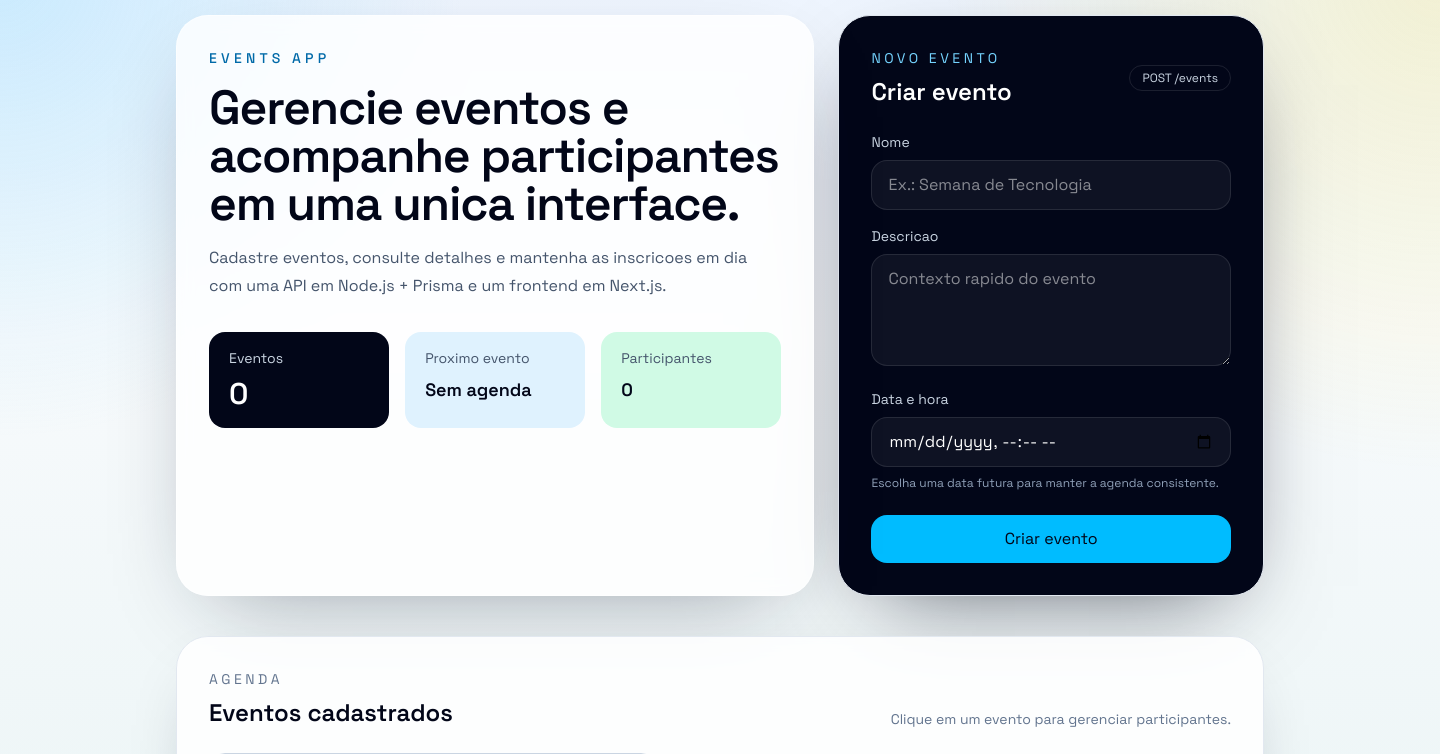
Test: HomePage › creates a new event and refreshes the list
Type "Open Source Day" into the field with placeholder "Ex.: Semana de Tecnologia".
click(1051, 185); type("Open Source Day")  # box top-left (871, 160), bottom-right (1231, 210)
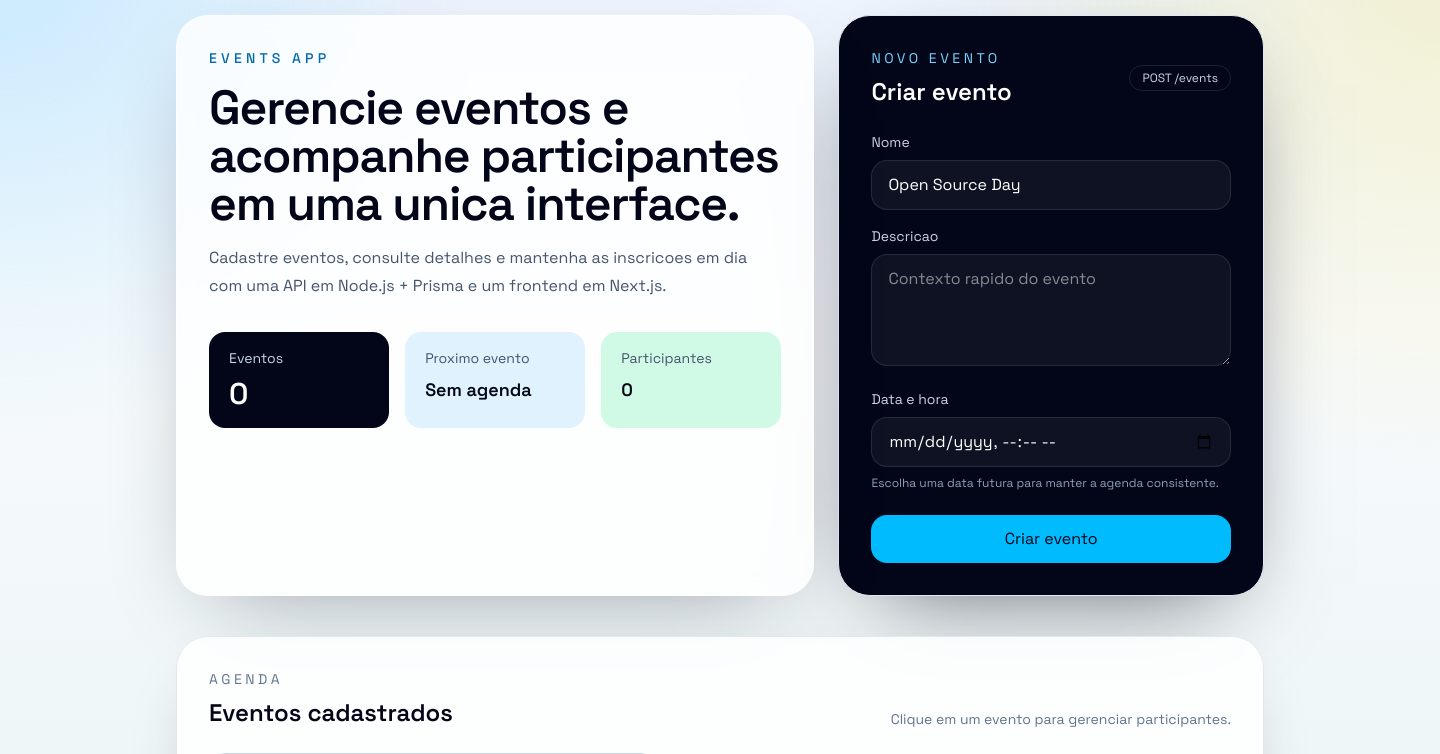
Type "Comunidade e codigo" into the text box with placeholder "Contexto rapido do evento".
click(1051, 310); type("Comunidade e codigo")  # box top-left (871, 254), bottom-right (1231, 366)
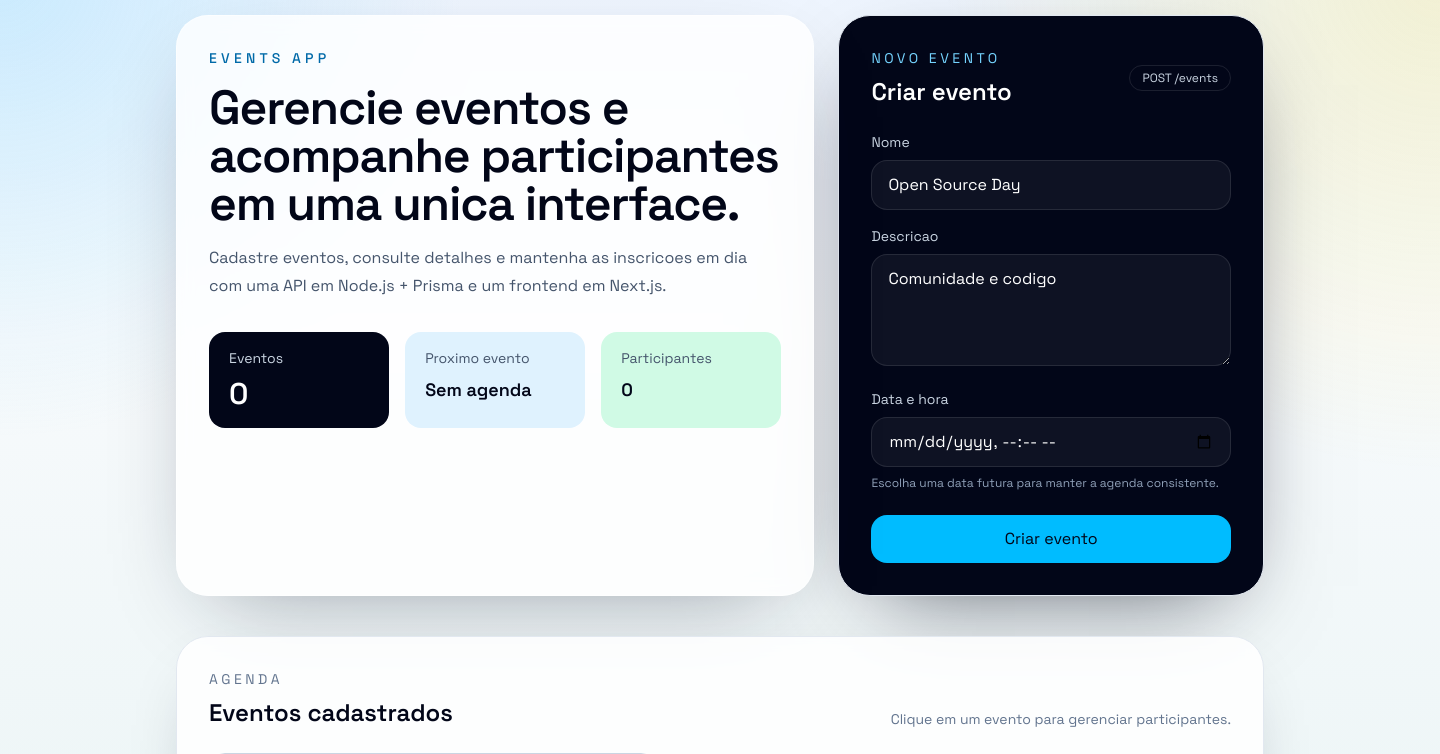
Type "2030-01-15T10:00" into the 2nd field.
click(1051, 442); type("2030-01-15T10:00")  # box top-left (871, 417), bottom-right (1231, 467)
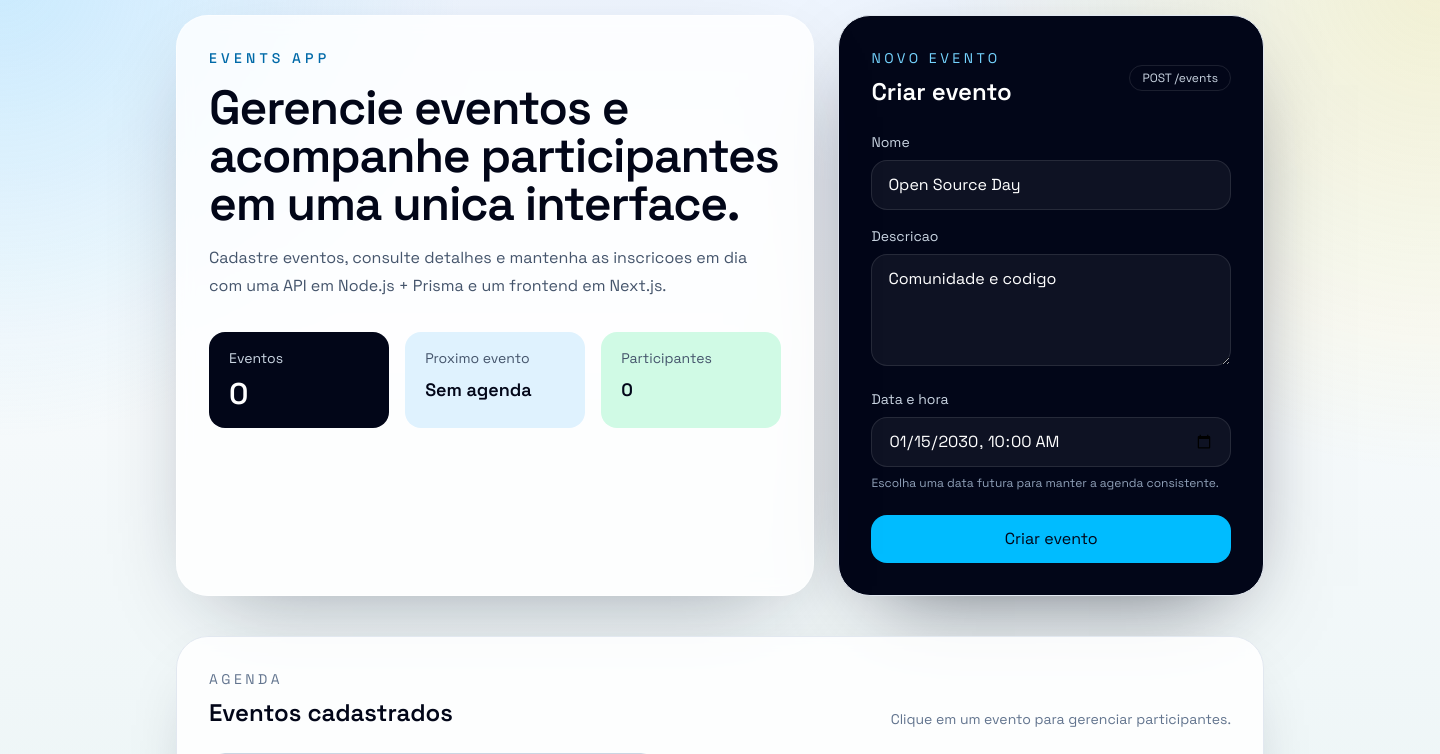
Submit the form from the button "Criar evento", box top-left (871, 515), bottom-right (1231, 563)
(page scrolled)
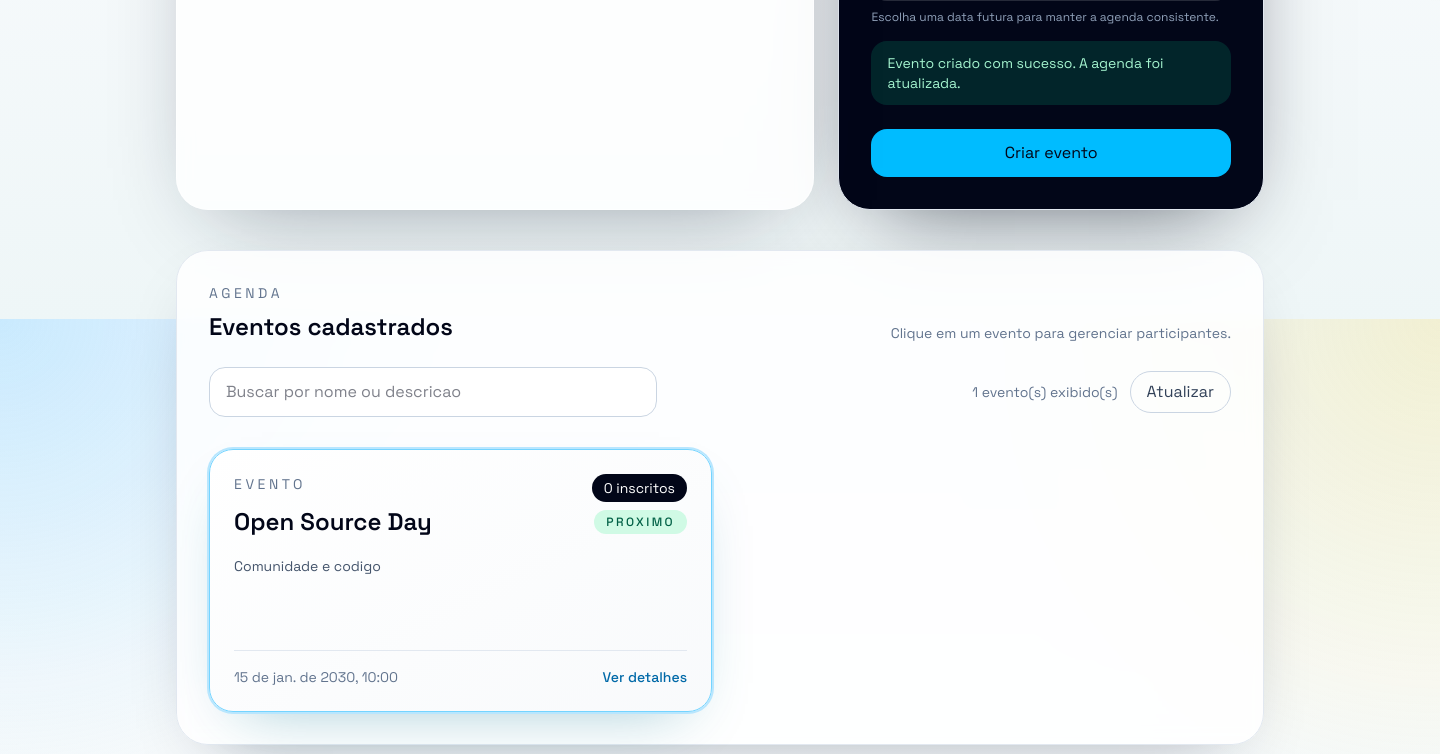
Expected: the text "Evento criado com sucesso. A agenda foi atualizada." is shown, top-left (871, 41), bottom-right (1231, 105)
Expected: the heading "Open Source Day" is shown, top-left (234, 506), bottom-right (432, 538)
